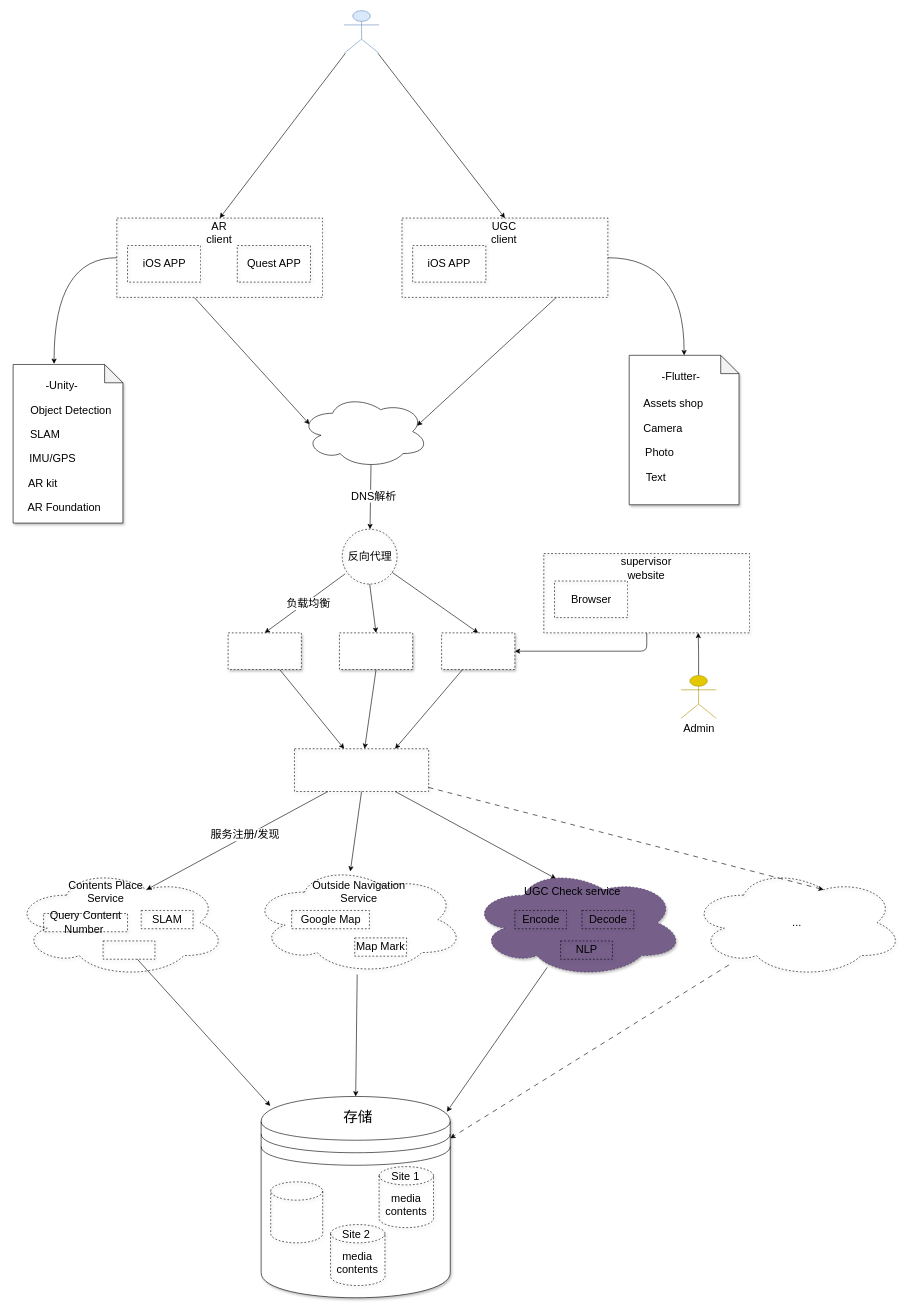
Some shapes in this 918 by 1313 pixel diagram are drawn without their labels. The shapes that lost their labels are listed below. From the top down, each one's centre as x and y in pixels, then its label:
At pixel 361 31: "User".
At pixel 364 431: "公网".
At pixel 265 652: "API 网关1".
At pixel 376 652: "API 网关2".
At pixel 478 652: "API 网关3".
At pixel 361 771: "service monitor center".
At pixel 129 950: "Get the Content".
At pixel 297 1213: "user data".
